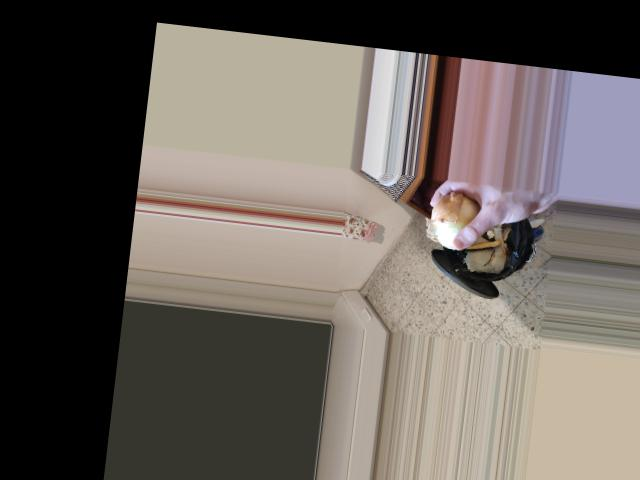onion: (426, 194, 486, 249)
